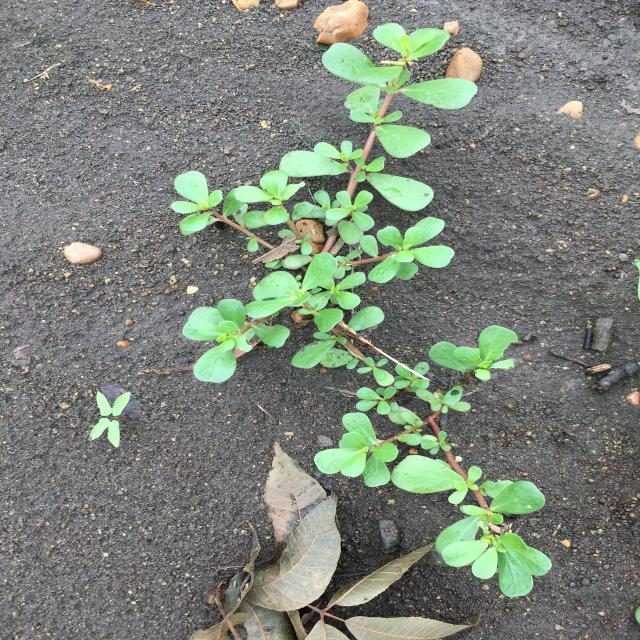MorningGlory: (88, 391, 131, 448)
Purslane: (170, 22, 552, 598)
